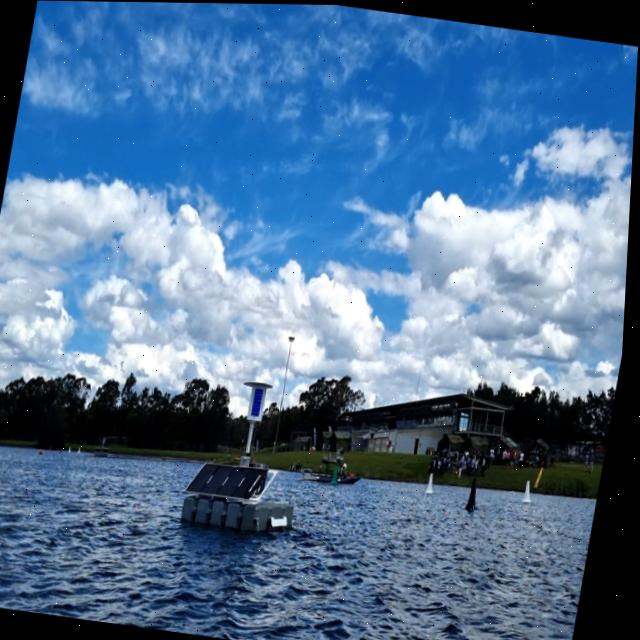led: (252, 385, 270, 419)
